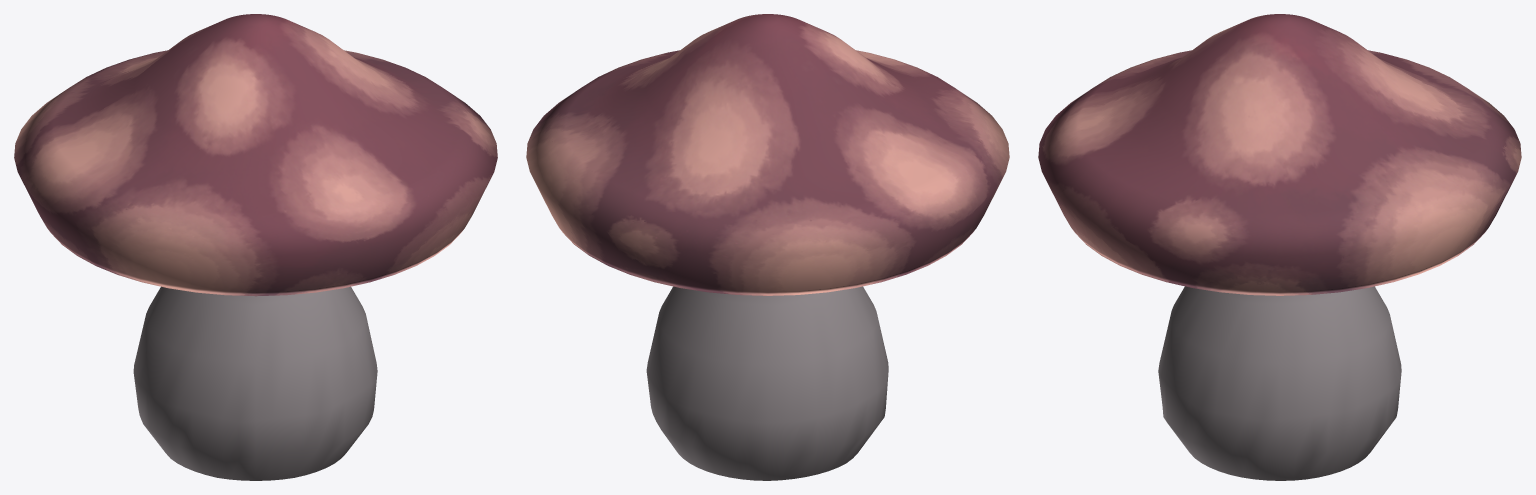
The model's file is Mushroom Chun.fbx.
3 views of the same model, side by side, from view 1: azimuth 30°, elevation 25°; view 2: azimuth 150°, elevation 25°; view 3: azimuth 270°, elevation 25° (orthographic).
Parts seen in each view (by area): view 1: pCylinder1; view 2: pCylinder1; view 3: pCylinder1.
Part boxes in pixels (x1,y1,x2,y2): pCylinder1: [14, 14, 497, 480]; pCylinder1: [526, 14, 1009, 480]; pCylinder1: [1038, 14, 1521, 480].
Size of the model in its own units: 2.87 by 2.76 by 2.87.
1 material, 1 textured.
